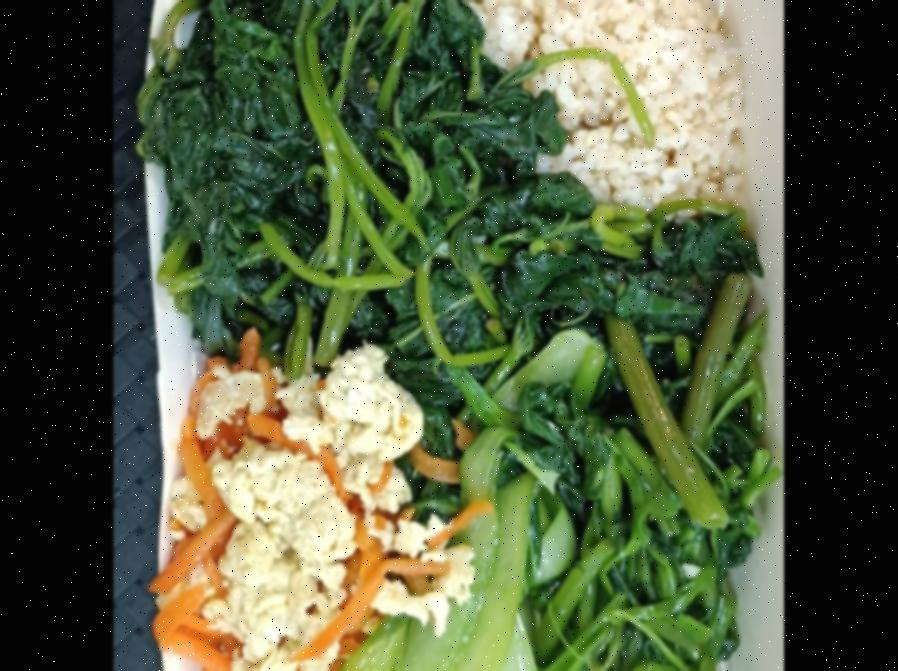box: (122, 0, 744, 671)
brown rice: (463, 0, 740, 226)
side dish: (149, 0, 753, 393), (175, 379, 408, 671), (541, 418, 757, 671), (387, 414, 568, 671)
